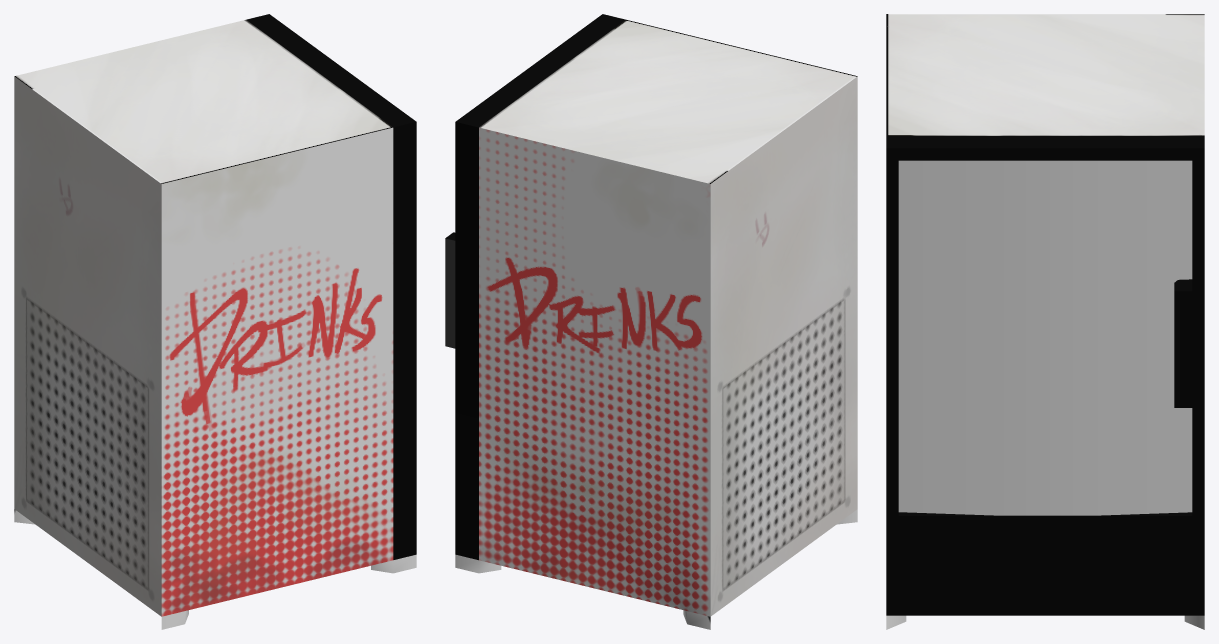
File: drink_fridge.glb
The picture shows the model from 3 angles, left to right: view 1: azimuth 30°, elevation 25°; view 2: azimuth 150°, elevation 25°; view 3: azimuth 270°, elevation 25°; orthographic projection. The views are drawn at different scales.
Parts seen in each view (by area): view 1: drink_fridge-kine; view 2: drink_fridge-kine; view 3: drink_fridge-kine.
Boxes of the visible parts, left/top/right/bottom form: drink_fridge-kine: left=14, top=14, right=416, bottom=629; drink_fridge-kine: left=445, top=14, right=857, bottom=629; drink_fridge-kine: left=886, top=14, right=1204, bottom=629.
Bounding box in the file's own units: 0.797 × 1.25 × 0.75.
Materials: 1 (1 with a texture image).
